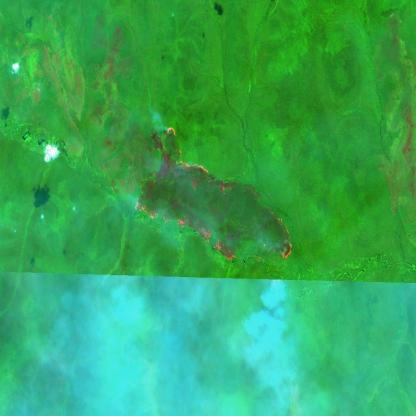fire: (132, 126, 294, 264)
